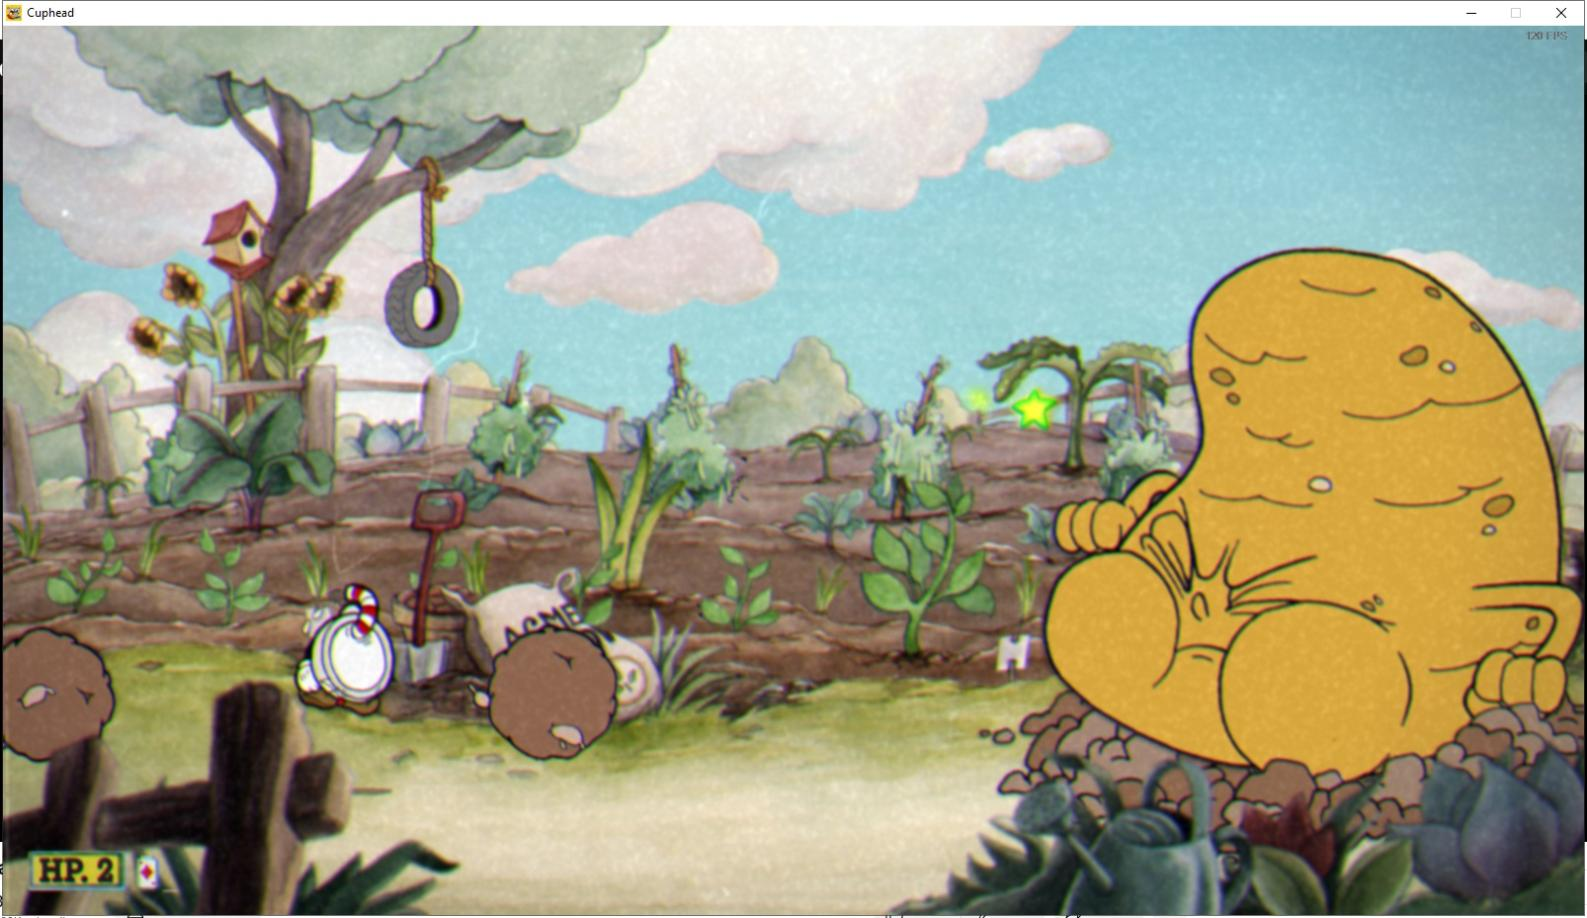dirt: (477, 615, 625, 769), (0, 629, 117, 771)
hp2: (94, 854, 120, 888)
player: (291, 576, 404, 720)
potato_boss: (1036, 246, 1570, 781)
